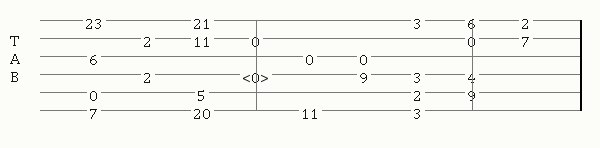0: (89, 85, 102, 99), (251, 31, 264, 45), (305, 49, 318, 63), (359, 49, 372, 63), (467, 31, 480, 45)
11: (193, 31, 215, 45), (301, 103, 323, 117)
2: (143, 67, 156, 81), (143, 31, 156, 45), (413, 85, 426, 99), (521, 13, 534, 27)
20: (193, 103, 215, 117)
21: (193, 13, 215, 27)
23: (85, 13, 107, 27)
3: (413, 67, 426, 81), (413, 13, 426, 27), (413, 103, 426, 117)
4: (467, 67, 480, 81)
5: (197, 85, 210, 100)
6: (89, 49, 102, 63), (467, 13, 480, 27)
7: (89, 103, 102, 117), (521, 31, 534, 45)
9: (359, 67, 372, 81), (467, 85, 480, 99)
harmonic: (242, 67, 273, 81)
